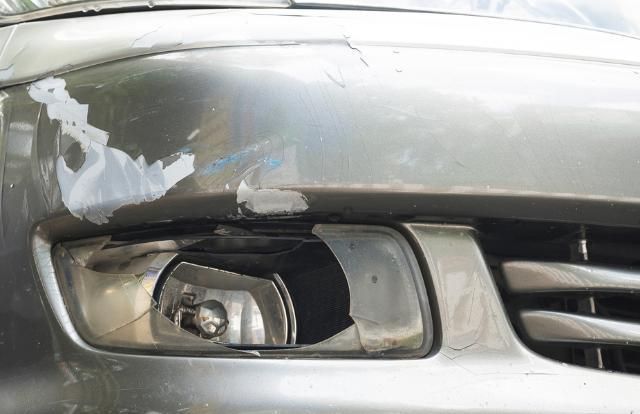Bonnet: (9, 40, 399, 195)
Light: (57, 221, 423, 351)
